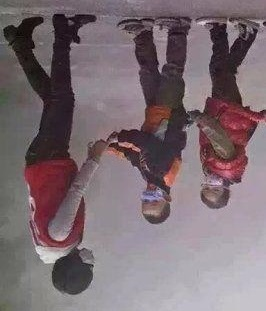person: (2, 11, 105, 295), (107, 16, 198, 225), (194, 12, 262, 210)
